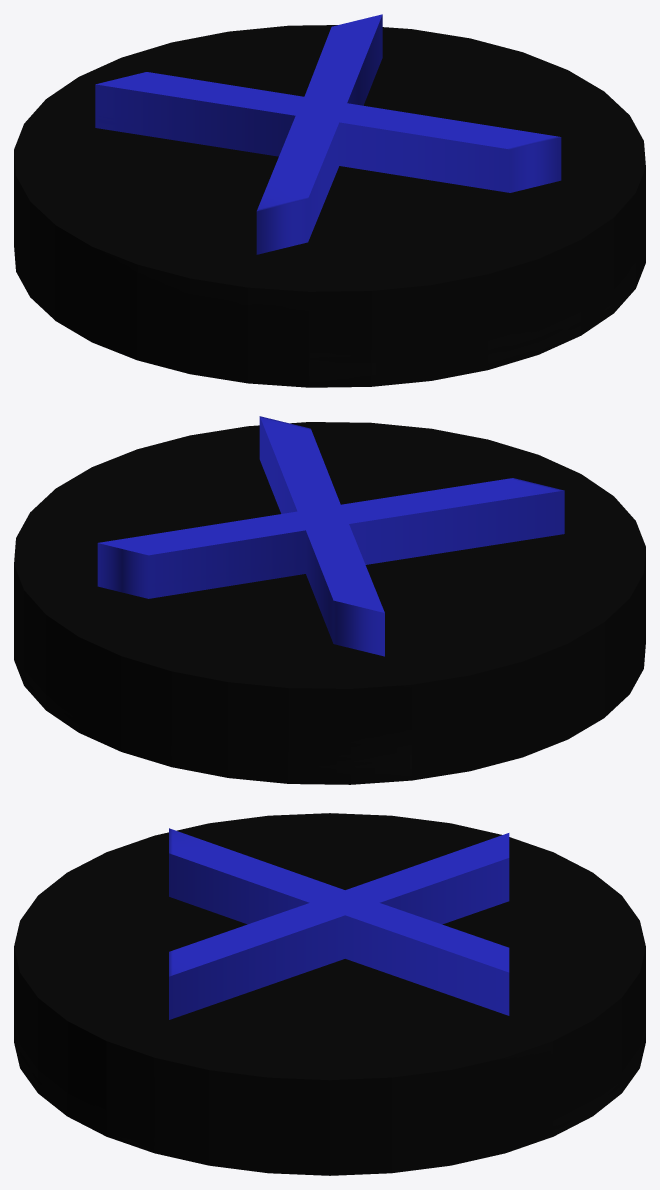
The model's file is buttonX.obj.
3 views of the same model, one above another, from view 1: azimuth 30°, elevation 25°; view 2: azimuth 150°, elevation 25°; view 3: azimuth 270°, elevation 25° (orthographic).
Visible parts, largest first — view 1: 円柱; view 2: 円柱; view 3: 円柱.
Part boxes in pixels (box(x1,y1,x2,y2)): 円柱: box(14, 14, 645, 387); 円柱: box(14, 416, 645, 784); 円柱: box(14, 813, 645, 1175).
Bounding box in the file's own units: 2 × 0.4856 × 2.
1 material, 1 textured.
